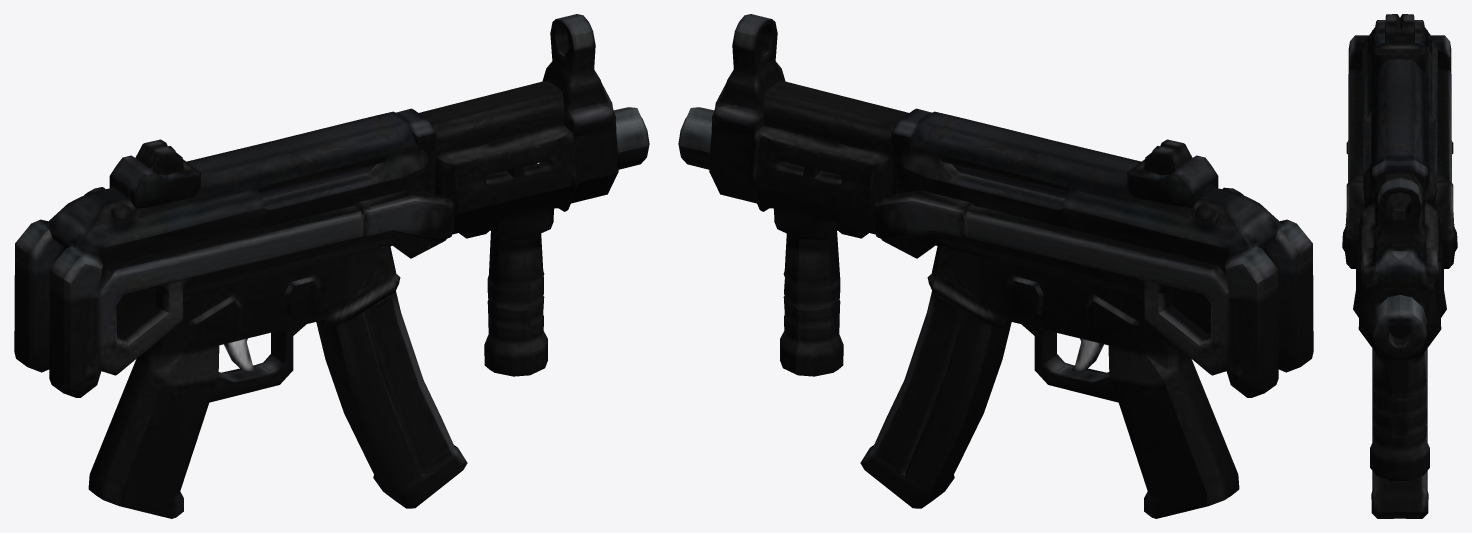
Rendered from gun-smg.glb.
The picture shows the model from 3 angles, left to right: view 1: azimuth 30°, elevation 25°; view 2: azimuth 150°, elevation 25°; view 3: azimuth 270°, elevation 25°; orthographic projection. The views are drawn at different scales.
Visible parts, largest first — view 1: world; view 2: world; view 3: world.
Boxes of the visible parts, <box> form: world: <box>14,14,649,518</box>; world: <box>678,14,1313,518</box>; world: <box>1342,14,1457,518</box>.
Size of the model in its own units: 1 by 0.7055 by 0.1776.
1 material, 1 textured.
